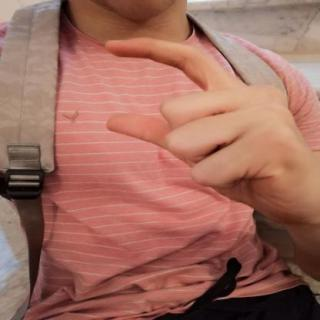DELL: (83, 24, 318, 237)
